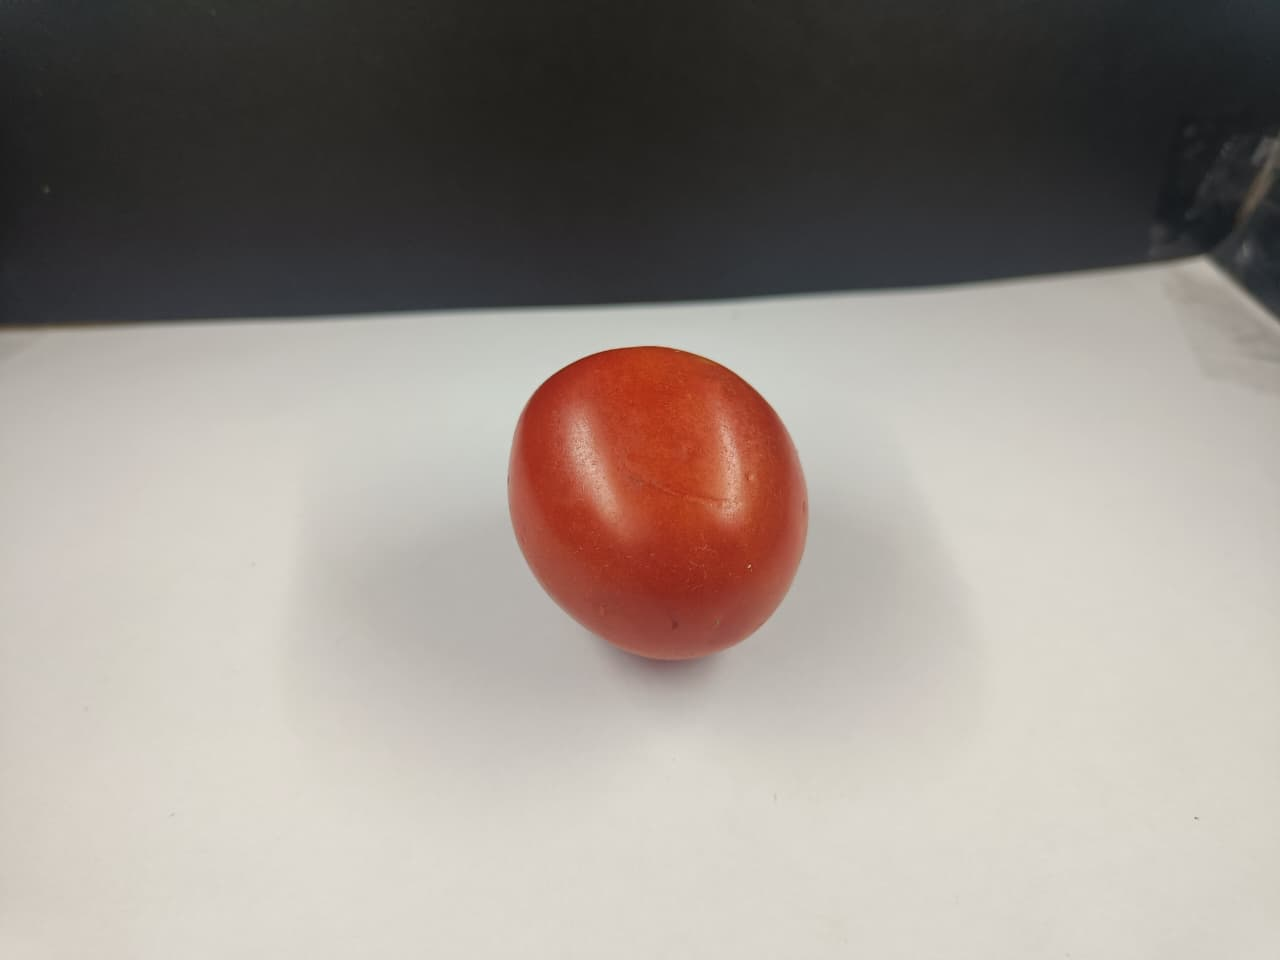ripe: (487, 341, 818, 677)
